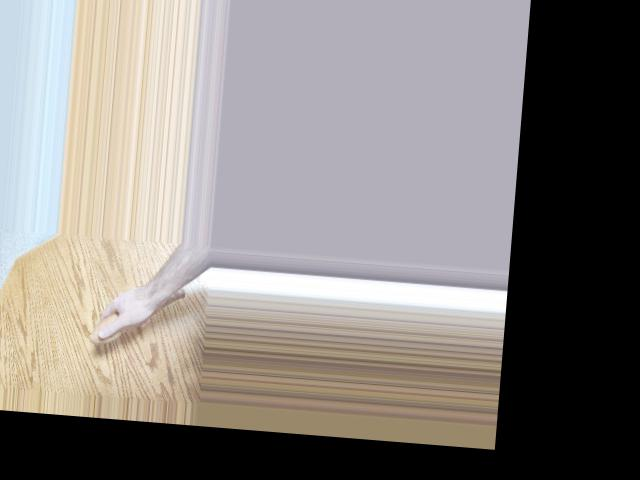sweet_potato: (87, 277, 189, 350)
